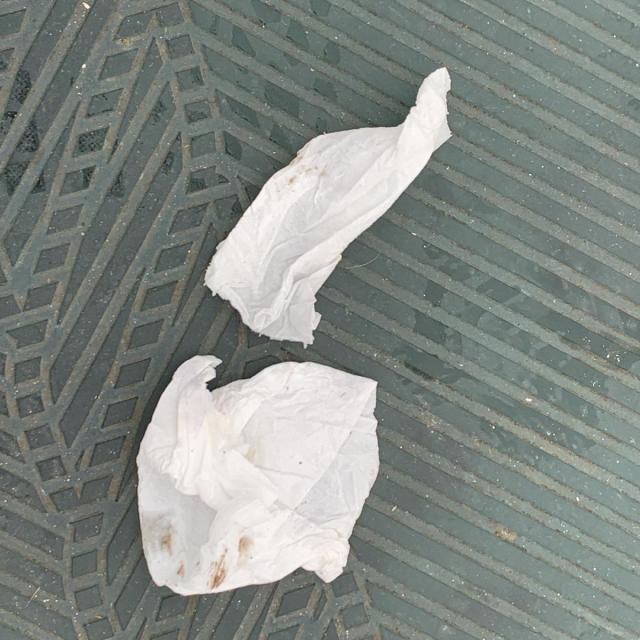Paper: (202, 63, 474, 344), (136, 352, 378, 598)
